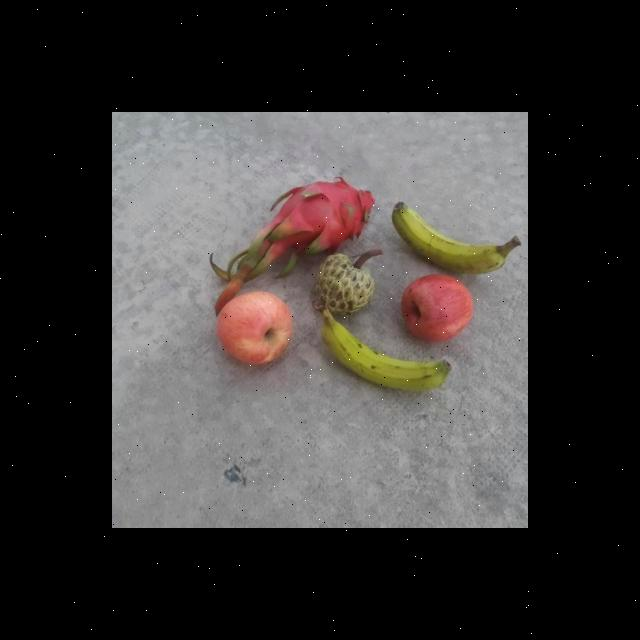Sakya fruit: (311, 250, 378, 318)
apple: (211, 288, 294, 367), (402, 276, 474, 340)
banana: (314, 302, 455, 394), (388, 197, 520, 272)
pitaya: (274, 177, 376, 252)
